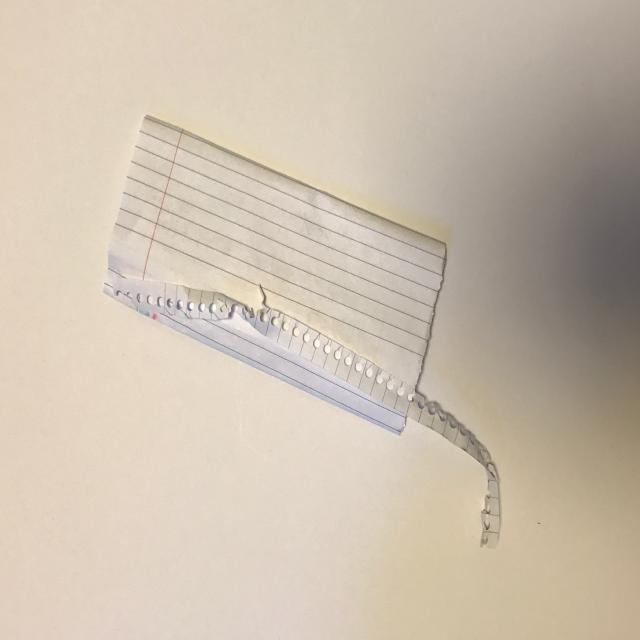paper: (95, 100, 510, 552)
